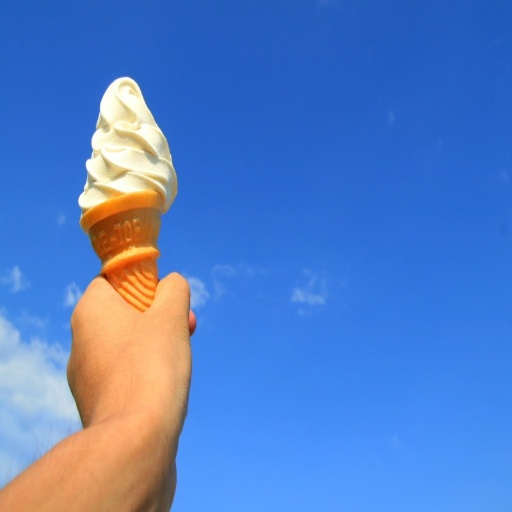hand: (64, 267, 199, 511)
